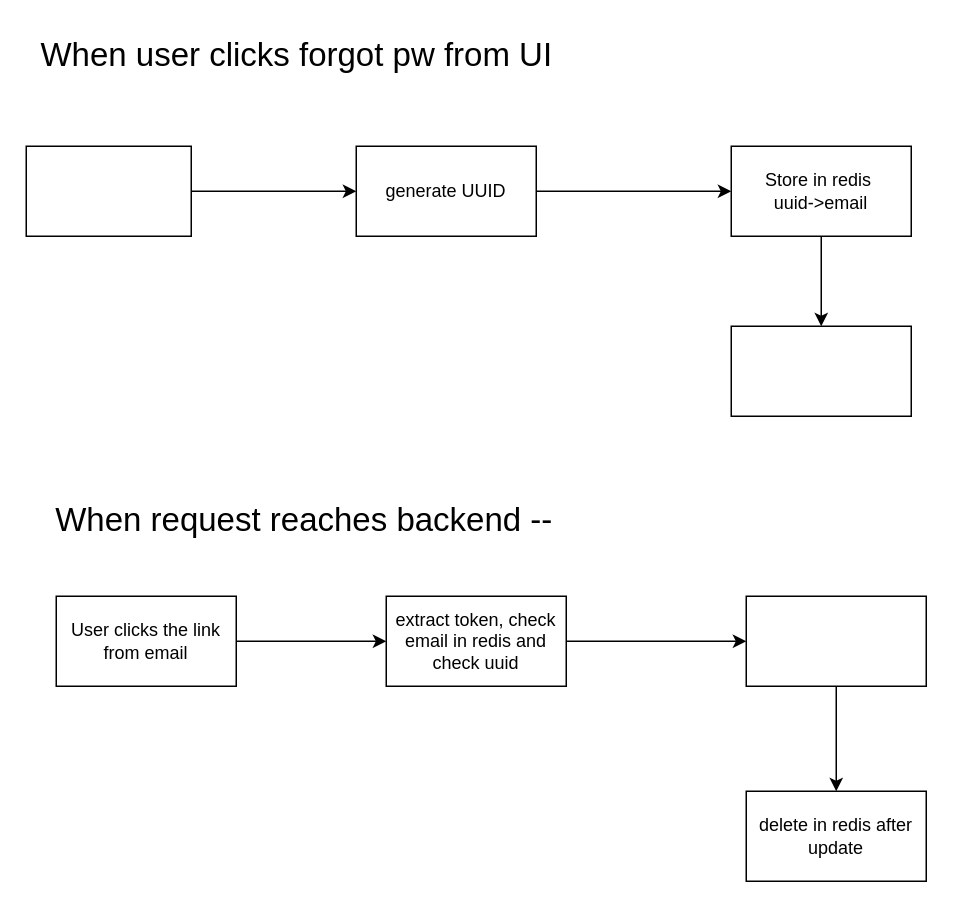
The diagram is 953 pixels wide and 908 high, and some of its shapes have lost their labels. The centre of each missing label's shape, as x and y in pixels:
hash new password, update in postgres: the point at 835,640
send mail with that uuid as token to user: the point at 820,370
User clicks forgot pw in UI: the point at 108,190
